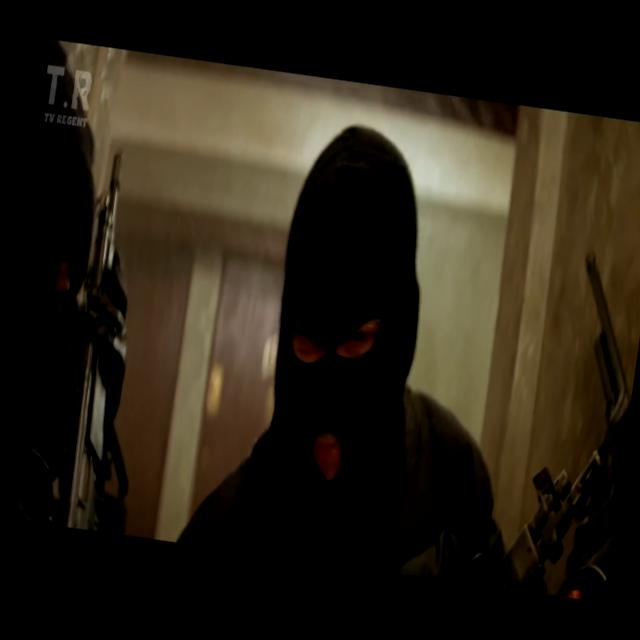long weapon: (28, 128, 196, 559)
